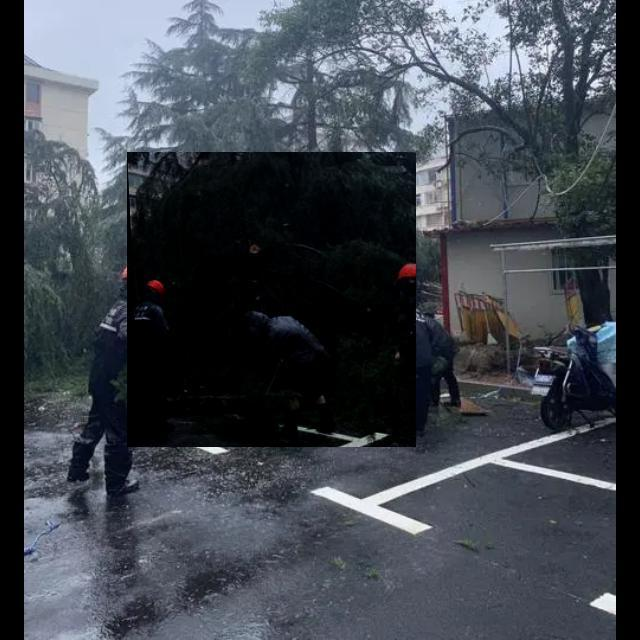fallen_tree: (127, 152, 417, 448)
